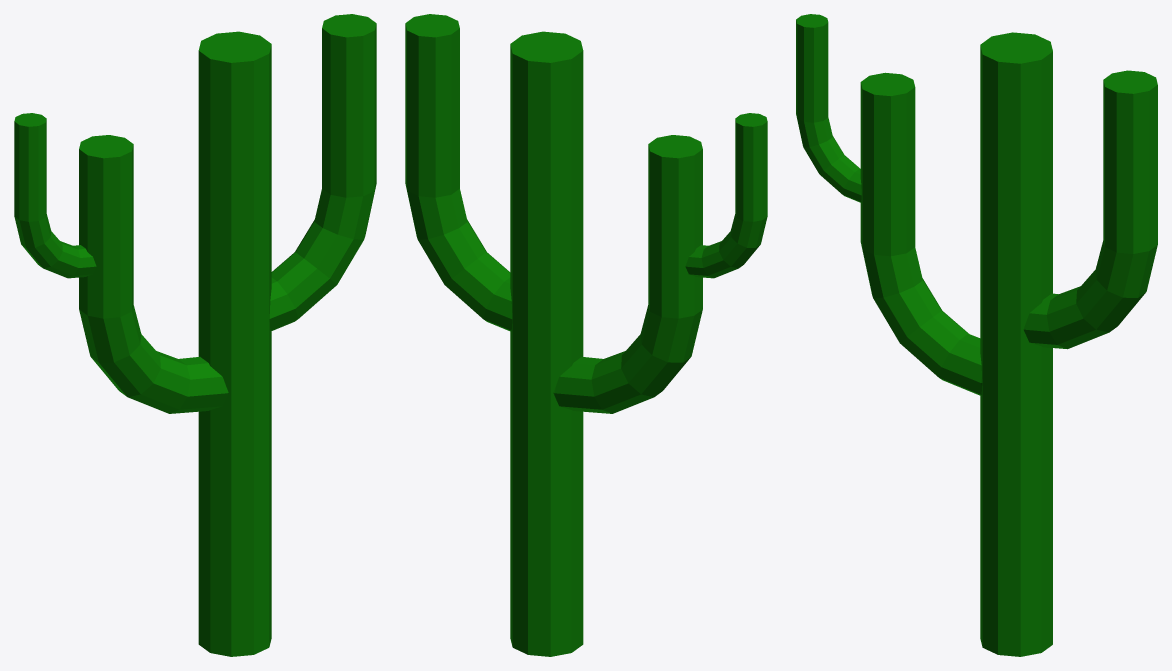
The model's file is Cactus3.fbx.
3 renders of one model, left to right at view 1: azimuth 30°, elevation 25°; view 2: azimuth 150°, elevation 25°; view 3: azimuth 330°, elevation 25°, orthographic.
Visible parts, largest first — view 1: Cylinder, Cylinder.001, Cylinder.002, Cylinder.003; view 2: Cylinder, Cylinder.001, Cylinder.002, Cylinder.003; view 3: Cylinder, Cylinder.001, Cylinder.002, Cylinder.003.
Part boxes in pixels (left/top/right/bottom): Cylinder: left=198, top=31, right=271, bottom=656; Cylinder.001: left=79, top=135, right=228, bottom=413; Cylinder.002: left=269, top=14, right=376, bottom=330; Cylinder.003: left=14, top=113, right=96, bottom=278; Cylinder: left=510, top=31, right=583, bottom=656; Cylinder.001: left=553, top=135, right=702, bottom=413; Cylinder.002: left=405, top=14, right=512, bottom=331; Cylinder.003: left=685, top=113, right=767, bottom=278; Cylinder: left=980, top=32, right=1052, bottom=656; Cylinder.001: left=860, top=72, right=982, bottom=395; Cylinder.002: left=1023, top=70, right=1157, bottom=349; Cylinder.003: left=796, top=14, right=861, bottom=202.
Bounding box in the file's own units: 76.39 × 122 × 13.9.
